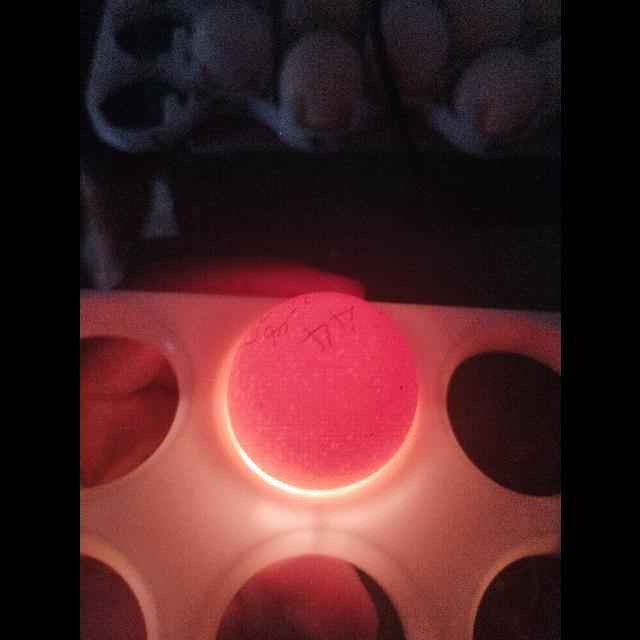Infertile: (224, 288, 424, 494)
